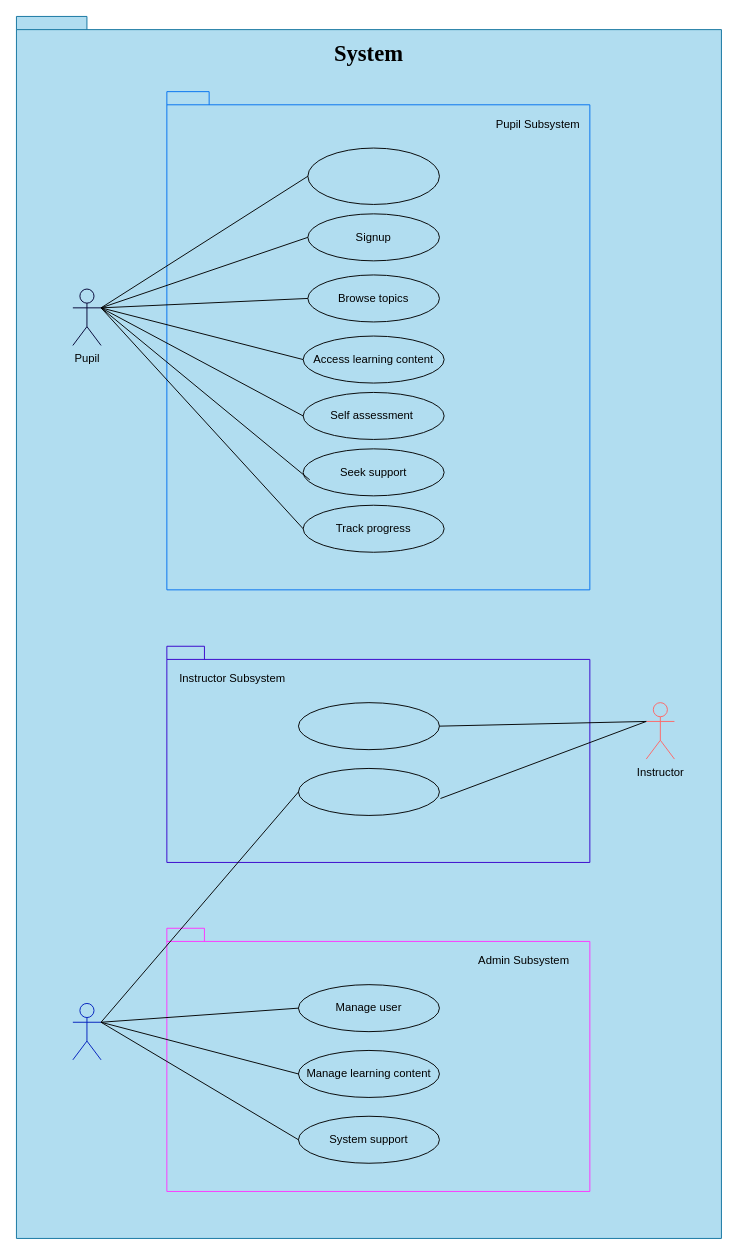
Some shapes in this 738 by 1255 pixel diagram are drawn without their labels. Here are the shapes that lost their labels. From the top down, the centre of each, then its label:
point 373,175: Login
point 368,726: Create content
point 368,791: View student progress
point 86,1031: Admin
